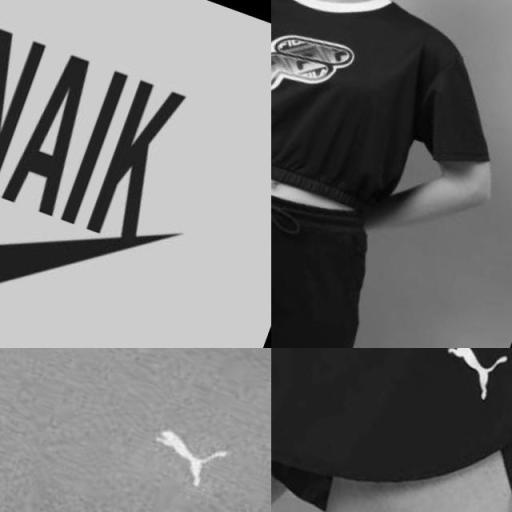Fila: (271, 6, 363, 121)
Nike: (0, 0, 247, 348)
